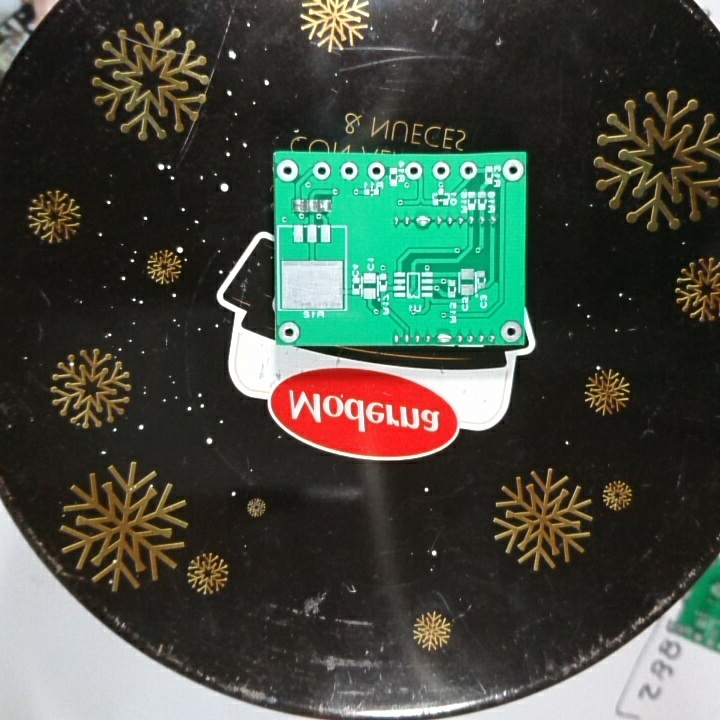F: (275, 158, 301, 185), (276, 318, 302, 345), (498, 319, 524, 345), (500, 158, 525, 183), (365, 159, 387, 183), (312, 159, 333, 184), (458, 160, 479, 183), (431, 160, 452, 183), (338, 160, 359, 183), (404, 160, 425, 182)
P: (414, 214, 434, 231), (434, 330, 454, 346)
